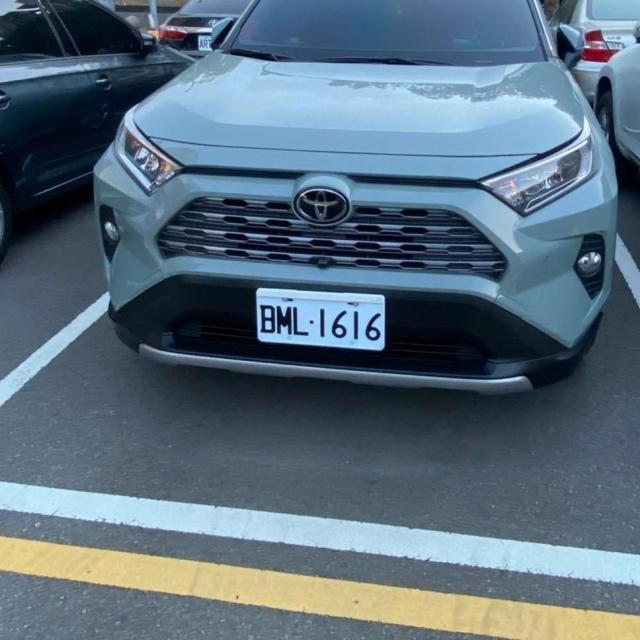W: (253, 284, 388, 353)
